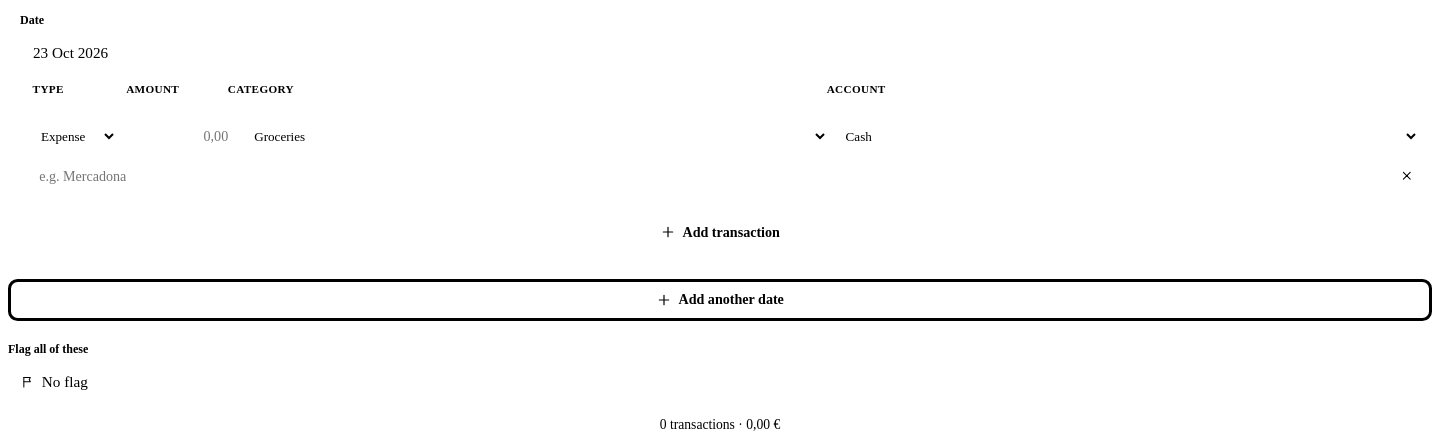
BatchTransactionForm — description suggestions › accepting a suggestion fills description, category, account, and type for that row
The width and height of the screenshot is (1440, 448).
Type "Net" into the dropdown with placeholder "e.g. Mercadona" at (719, 176), box [30,160,1408,193]
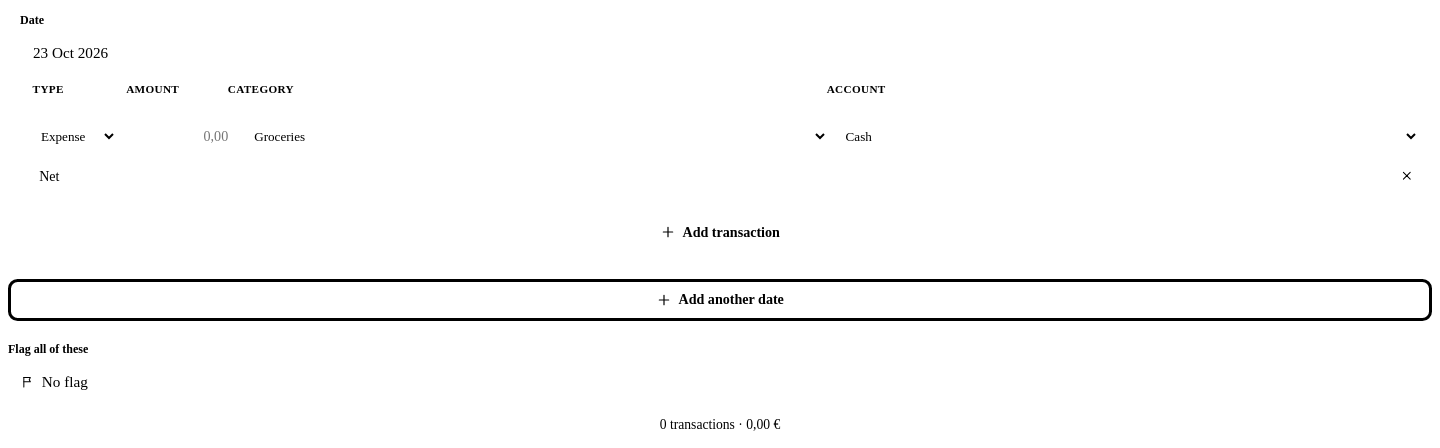
Focus the dropdown with placeholder "e.g. Mercadona" at (719, 176), box [30,160,1408,193]
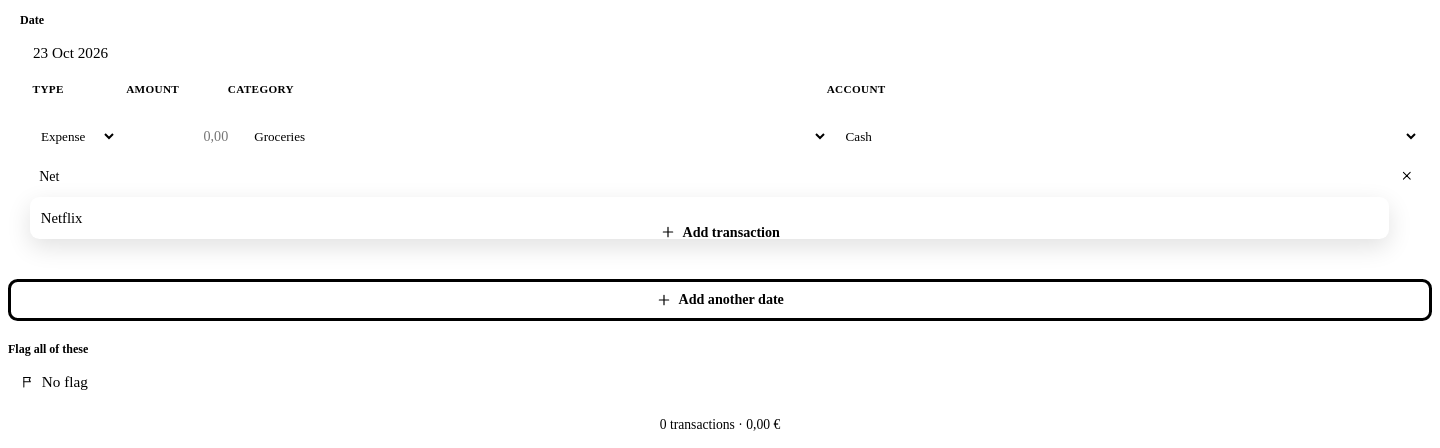
Click the option "Netflix" at (62, 218), box [41,210,82,226]
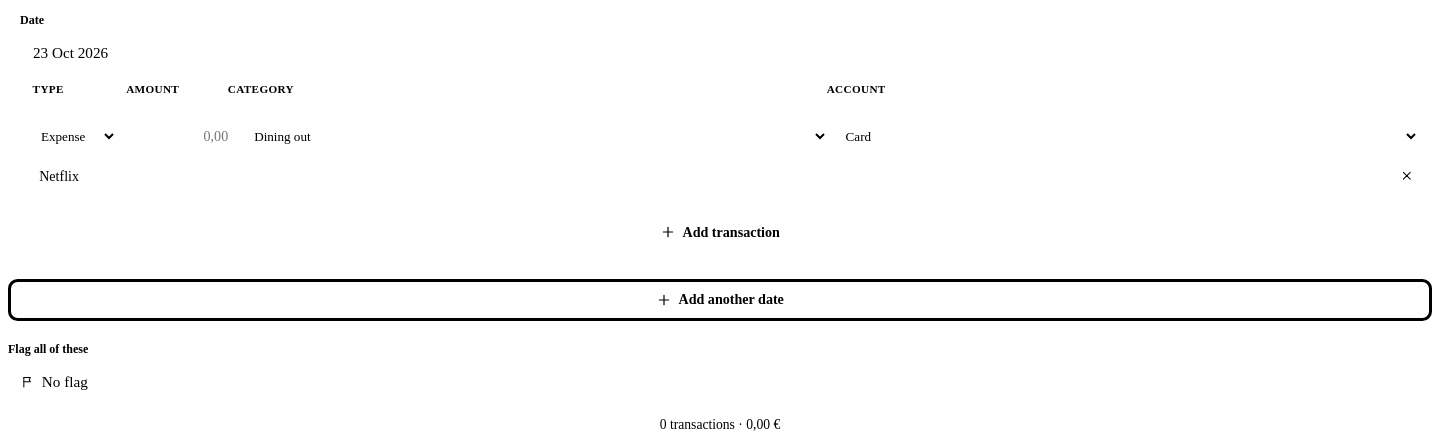
Check: the dropdown showing "Netflix" is shown, box [30,160,1408,193]
Check: the dropdown showing "Dining out" is shown, box [243,119,829,154]
Check: the dropdown showing "Card" is shown, box [834,119,1420,154]
